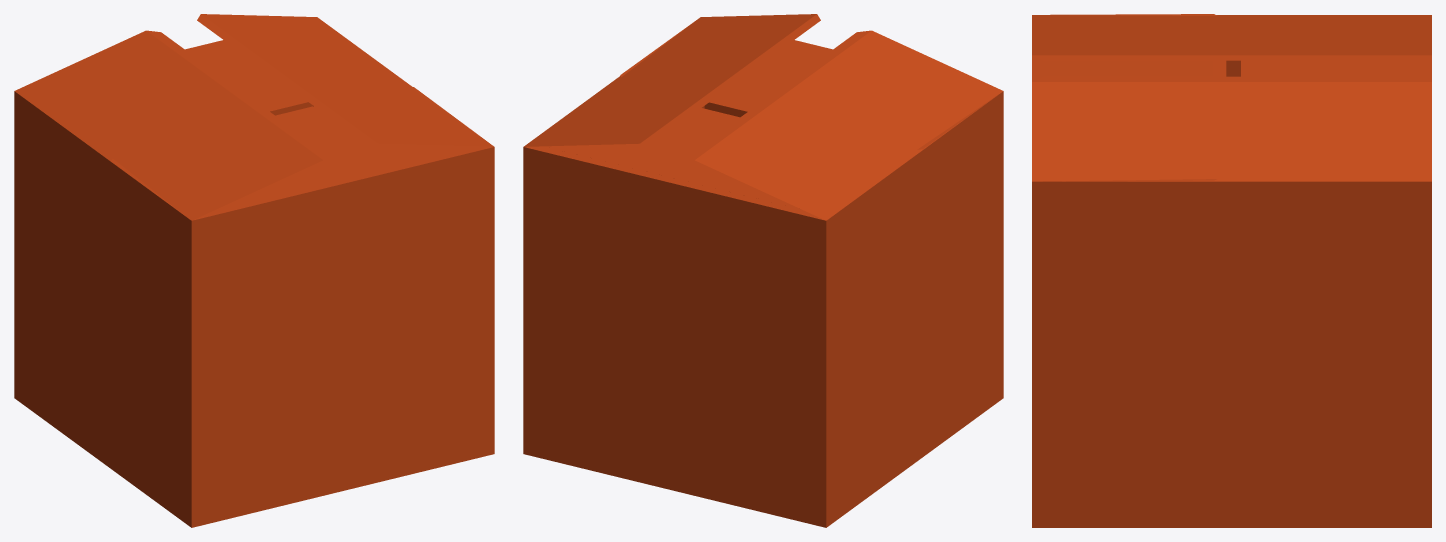
Rendered from caixaPapelao1.FBX.
3 views of the same model, side by side, from view 1: azimuth 30°, elevation 25°; view 2: azimuth 150°, elevation 25°; view 3: azimuth 270°, elevation 25° (orthographic). The views are drawn at different scales.
Parts seen in each view (by area): view 1: Box001; view 2: Box001; view 3: Box001.
Boxes of the visible parts, x1=… form: Box001: x1=14, y1=14, x2=494, y2=527; Box001: x1=523, y1=14, x2=1003, y2=527; Box001: x1=1032, y1=14, x2=1431, y2=527.
Bounding box in the file's own units: 38.51 × 41.14 × 39.04.
